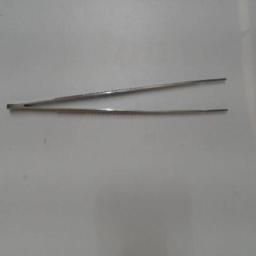DeBakey Dissector: (0, 64, 242, 124)
